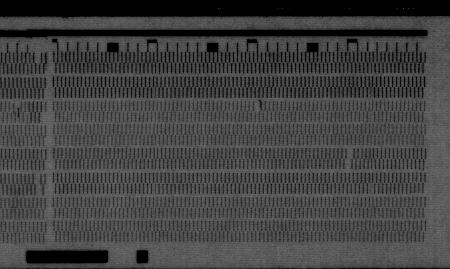Broken hole: (31, 174, 45, 195), (343, 148, 355, 172), (31, 51, 43, 65), (252, 99, 263, 114), (38, 111, 48, 124)
Oblique printing: (8, 99, 23, 117)
